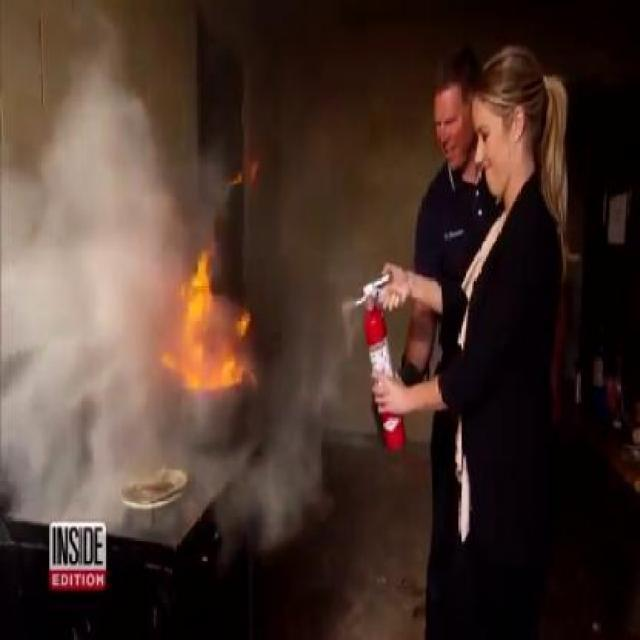fire: (179, 245, 250, 384)
smoke: (1, 102, 141, 500)
